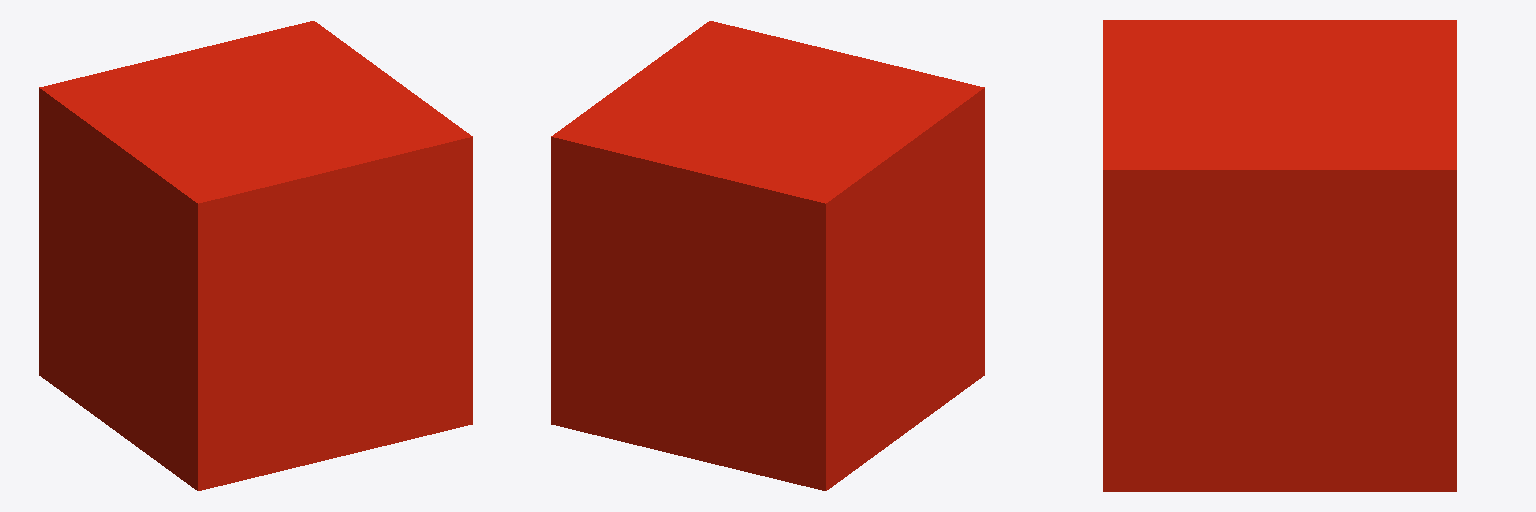
robot.urdf — block:
<?xml version="1.0"?>
<robot name="block">
  <link name="block">
    <visual>
      <geometry><box size="0.08 0.08 0.08"/></geometry>
      <material name="red"><color rgba="0.9 0.2 0.1 1"/></material>
    </visual>
    <collision>
      <geometry><box size="0.08 0.08 0.08"/></geometry>
    </collision>
    <inertial>
      <mass value="0.2"/>
      <inertia ixx="0.000213" ixy="0" ixz="0" iyy="0.000213" iyz="0" izz="0.000213"/>
    </inertial>
  </link>
</robot>

--- Render facts (derived) ---
3 views of the same robot in one strip: view 1: azimuth 30°, elevation 25°; view 2: azimuth 150°, elevation 25°; view 3: azimuth 270°, elevation 25° (orthographic).
Robot: block — 1 links, 0 joints (none); root link block; default pose: every joint at zero.
Links seen in each view (by area): view 1: block; view 2: block; view 3: block.
Link boxes in pixels (bbox=[...]): block: bbox=[39, 21, 472, 490]; block: bbox=[551, 21, 984, 490]; block: bbox=[1103, 20, 1456, 491].
Bounding box of the posed robot: 0.08 × 0.08 × 0.08 m (x, y, z).
Geometry: primitives only (box / cylinder / sphere), no mesh files.
